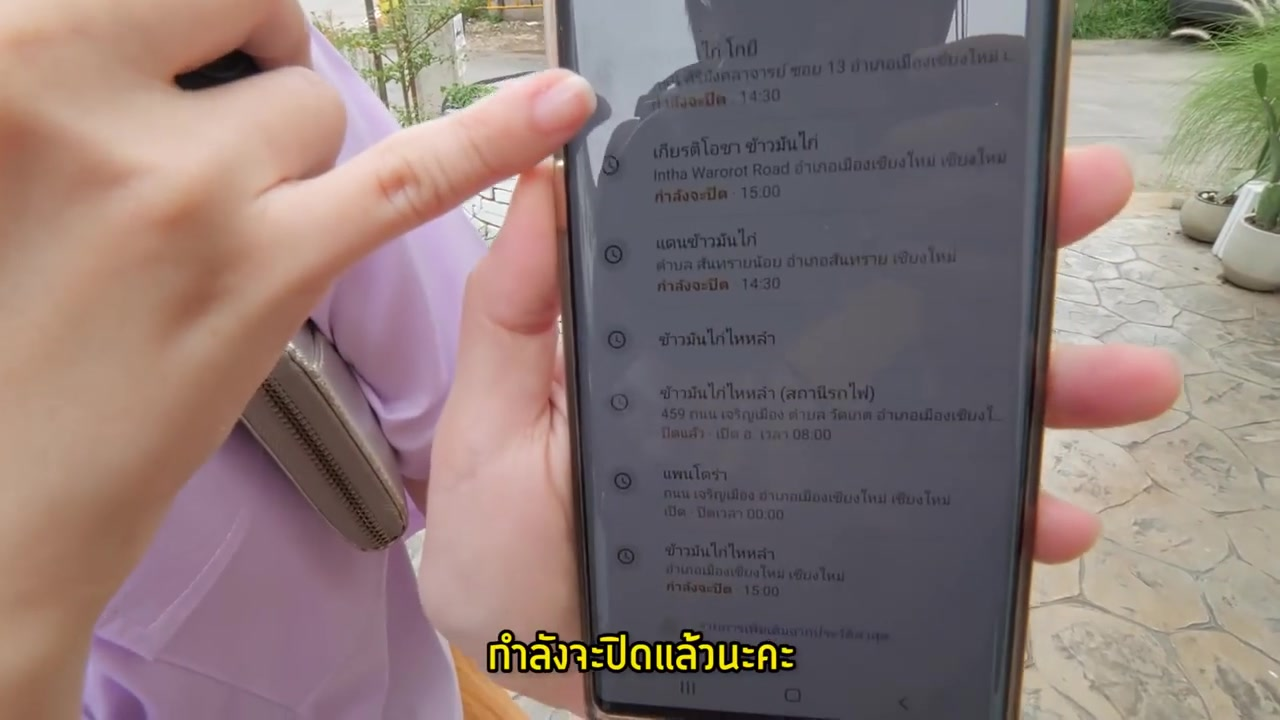text-label: (481, 623, 809, 677)
